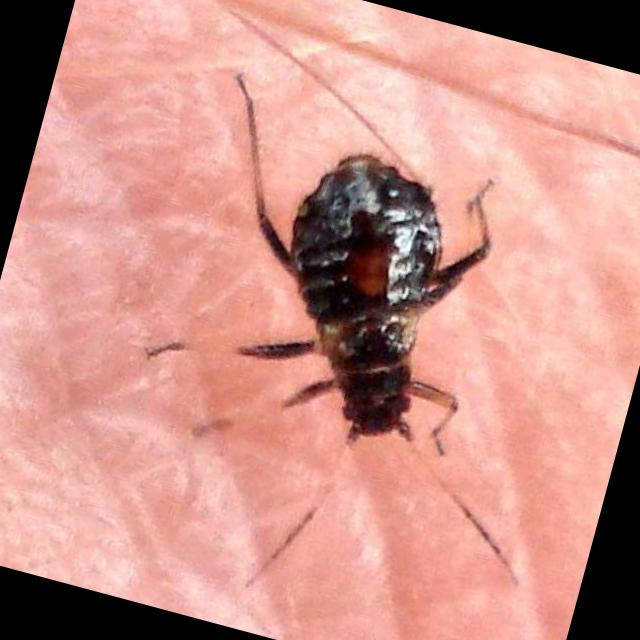aphid: (144, 106, 564, 572)
